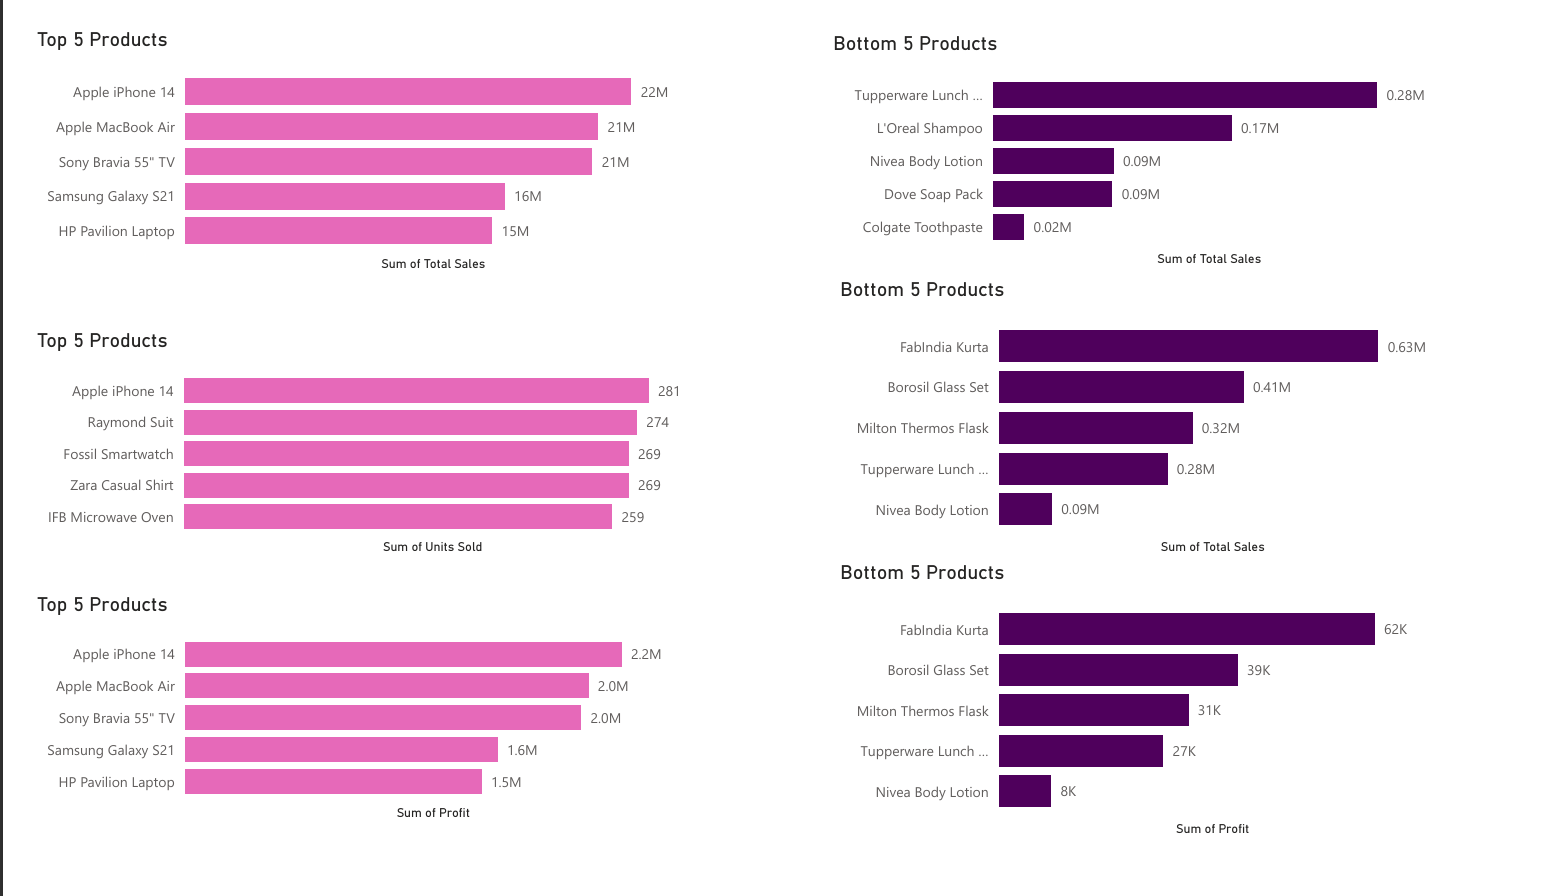

The page's visual inventory and layout, read from the dashboard file:
{"tool":"powerbi","page":{"name":"Top/Bottom ","canvas":[1280,720],"ordinal":0},"visuals":[{"type":"barChart","title":"Top 5 Products","fields":{"Category":["Dim Product.Product Name"],"Y":["Sum(Fact Table.Total Sales  )"]},"box":[0,0,561.2,214.1],"z":0},{"type":"barChart","title":"Top 5 Products","fields":{"Category":["Dim Product.Product Name"],"Y":["Sum(Fact Table.Units Sold)"]},"box":[0,258,561.2,197.6],"z":1000},{"type":"barChart","title":"Bottom 5 Products","fields":{"Category":["Dim Product.Product Name"],"Y":["Sum(Fact Table.Total Sales  )"]},"box":[687.5,214.1,510.5,241.5],"z":2000},{"type":"barChart","title":"Bottom 5 Products","fields":{"Category":["Dim Product.Product Name"],"Y":["Sum(Fact Table.Total Sales  )"]},"box":[713.6,9.6,514.6,204.5],"z":3000},{"type":"barChart","title":"Top 5 Products","fields":{"Category":["Dim Product.Product Name"],"Y":["Sum(Fact Table.Profit)"]},"box":[0,483,561.2,200.3],"z":4000},{"type":"barChart","title":"Bottom 5 Products","fields":{"Category":["Dim Product.Product Name"],"Y":["Sum(Fact Table.Profit)"]},"box":[687.5,455.6,510.5,241.5],"z":5000}]}

Visuals, with their boxes in screenshot pixels (x1, y1, x2, y2), scaled from the page's 1280x720 canvas onto the 1552x896 screenshot:
"Top 5 Products" barChart: [0,0,680,266]
"Top 5 Products" barChart: [0,321,680,567]
"Bottom 5 Products" barChart: [834,266,1453,567]
"Bottom 5 Products" barChart: [865,12,1489,266]
"Top 5 Products" barChart: [0,601,680,850]
"Bottom 5 Products" barChart: [834,567,1453,868]
